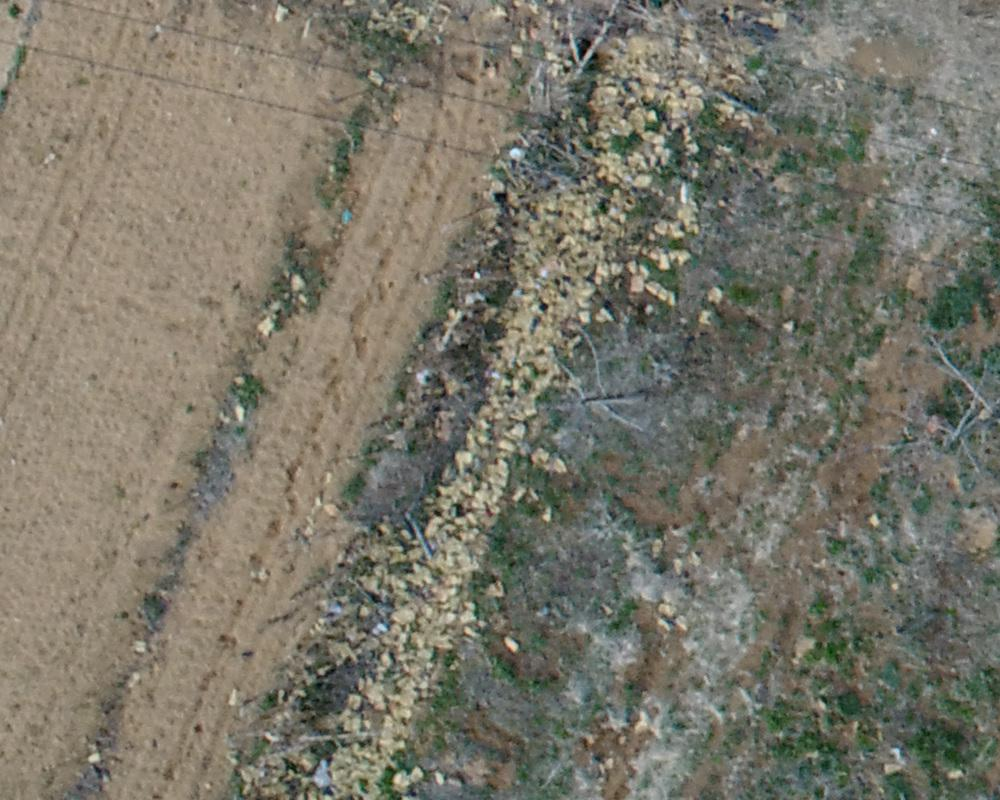apple: (518, 311, 673, 455), (895, 298, 990, 479)
